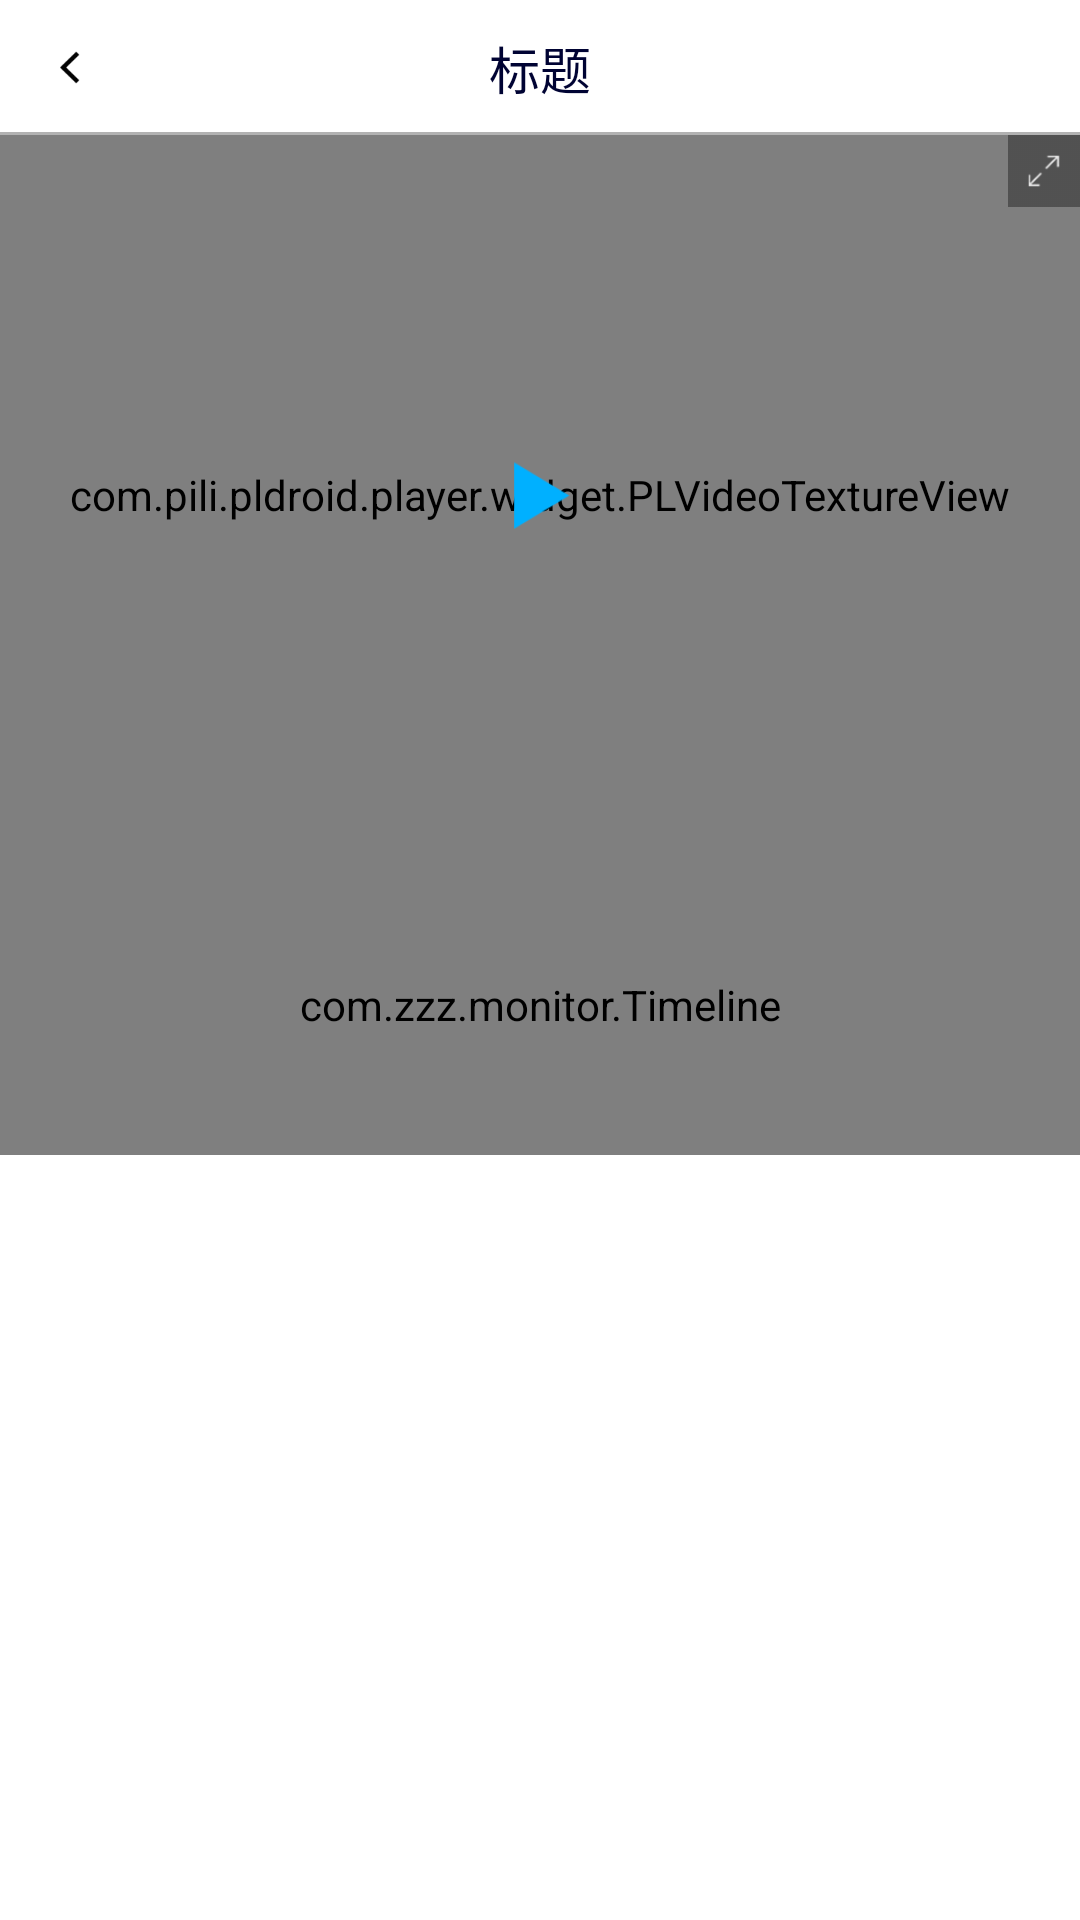

Icons on this 1080w x 1920h Android screen, each with the point to tap as [x,y]:
fullscreen open: [1044,171]
play loading: [540,495]
